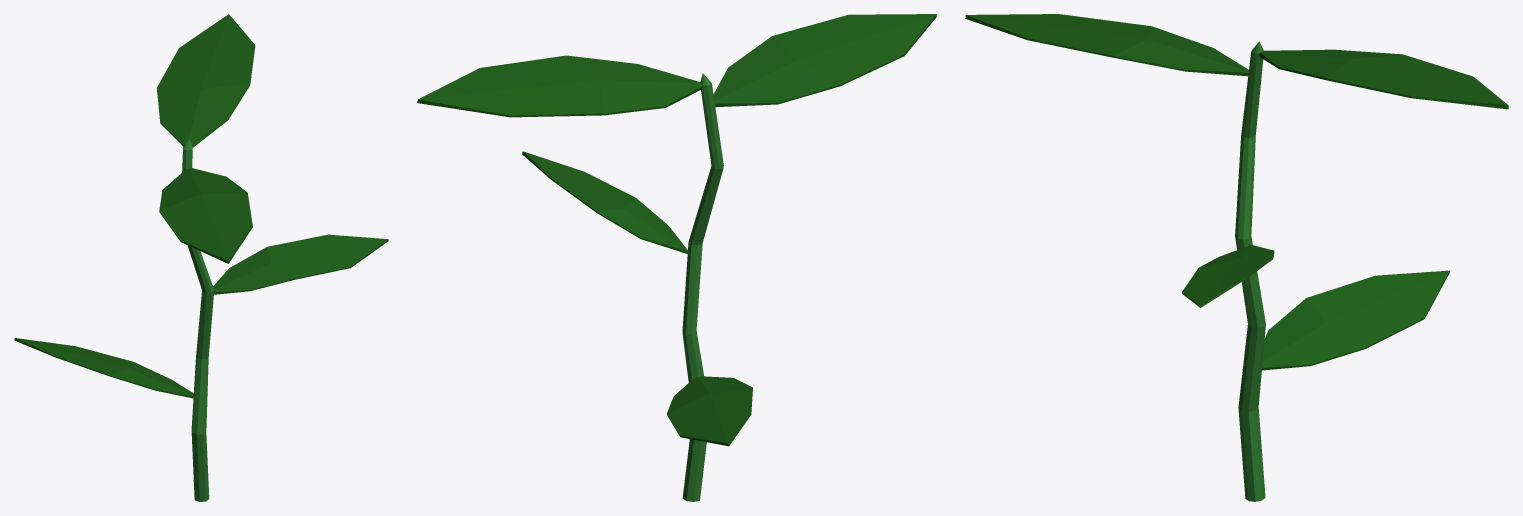
Rendered from Plant 1.2.fbx.
3 views of the same model, side by side, from view 1: azimuth 30°, elevation 25°; view 2: azimuth 150°, elevation 25°; view 3: azimuth 270°, elevation 25° (orthographic). The views are drawn at different scales.
Visible parts, largest first — view 1: Plant 1.2; view 2: Plant 1.2; view 3: Plant 1.2.
Part boxes in pixels (x1=…): Plant 1.2: x1=14, y1=14, x2=388, y2=501; Plant 1.2: x1=417, y1=14, x2=936, y2=501; Plant 1.2: x1=965, y1=14, x2=1508, y2=501.
Size of the model in its own units: 73.17 by 96.82 by 101.
